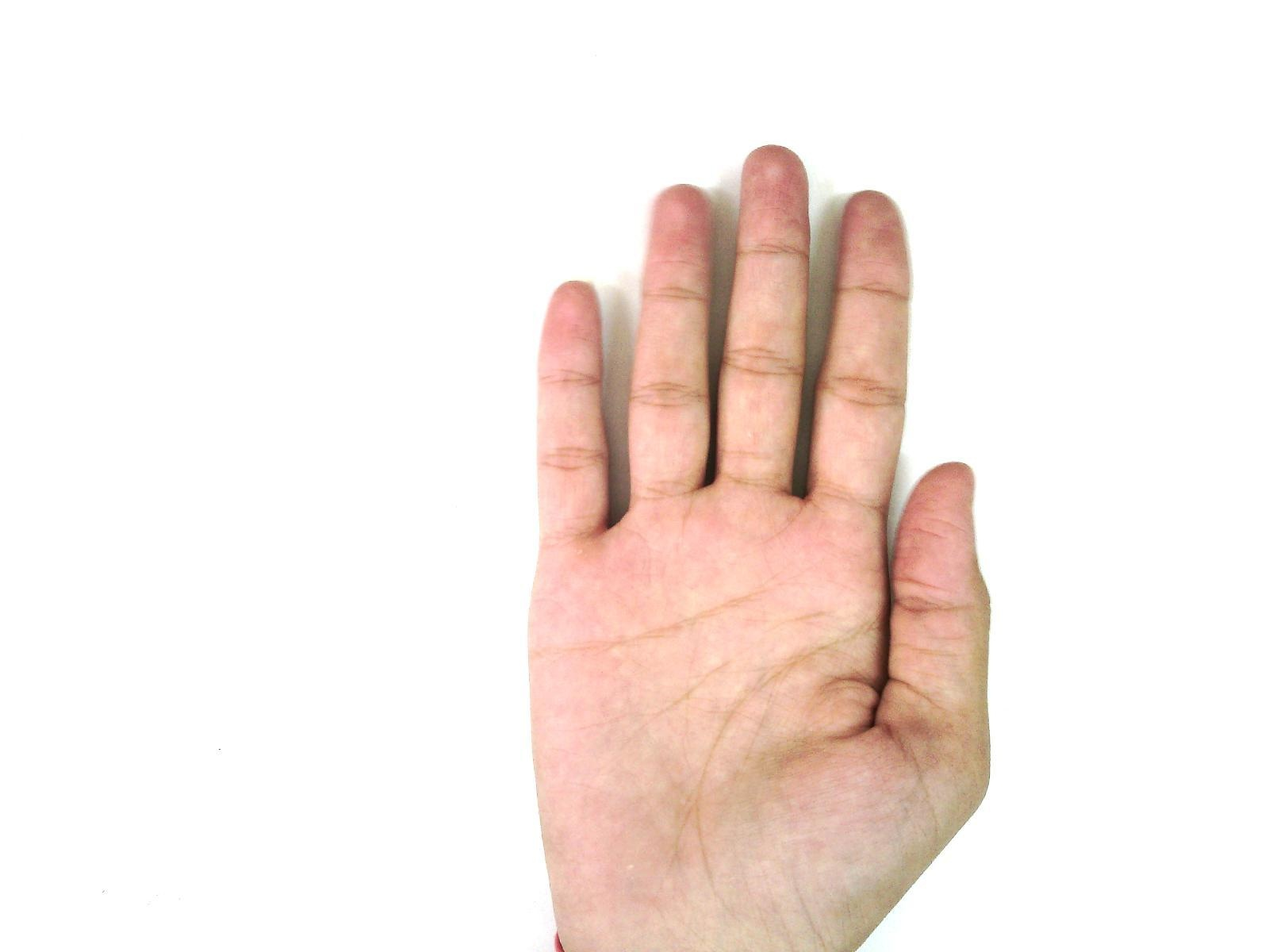open_palm: (523, 144, 995, 951)
